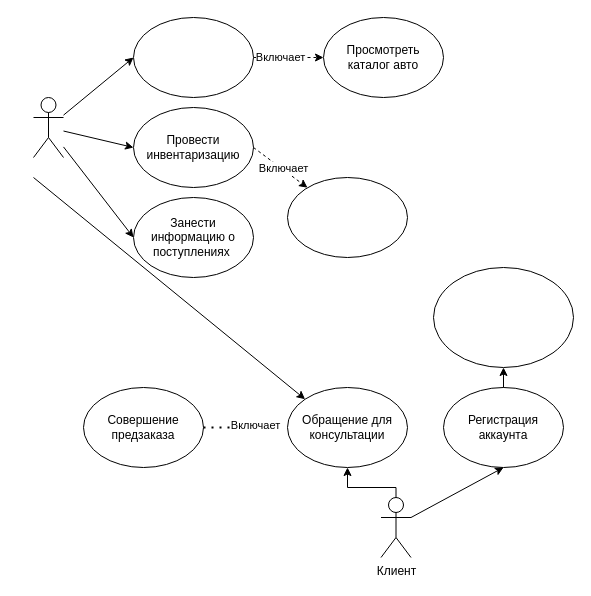
This 591x596 diagram has some shape labels left out. Here are the shapes that lost their labels. From the top down, the box of each, then its label:
(132, 16, 254, 98): Просмотр информации в базе доступных авто
(32, 96, 64, 158): Менеджер
(286, 176, 408, 258): Просмотр изменение информации о товаре
(432, 266, 574, 368): Просмотр информации о наличии интересуемого авто
